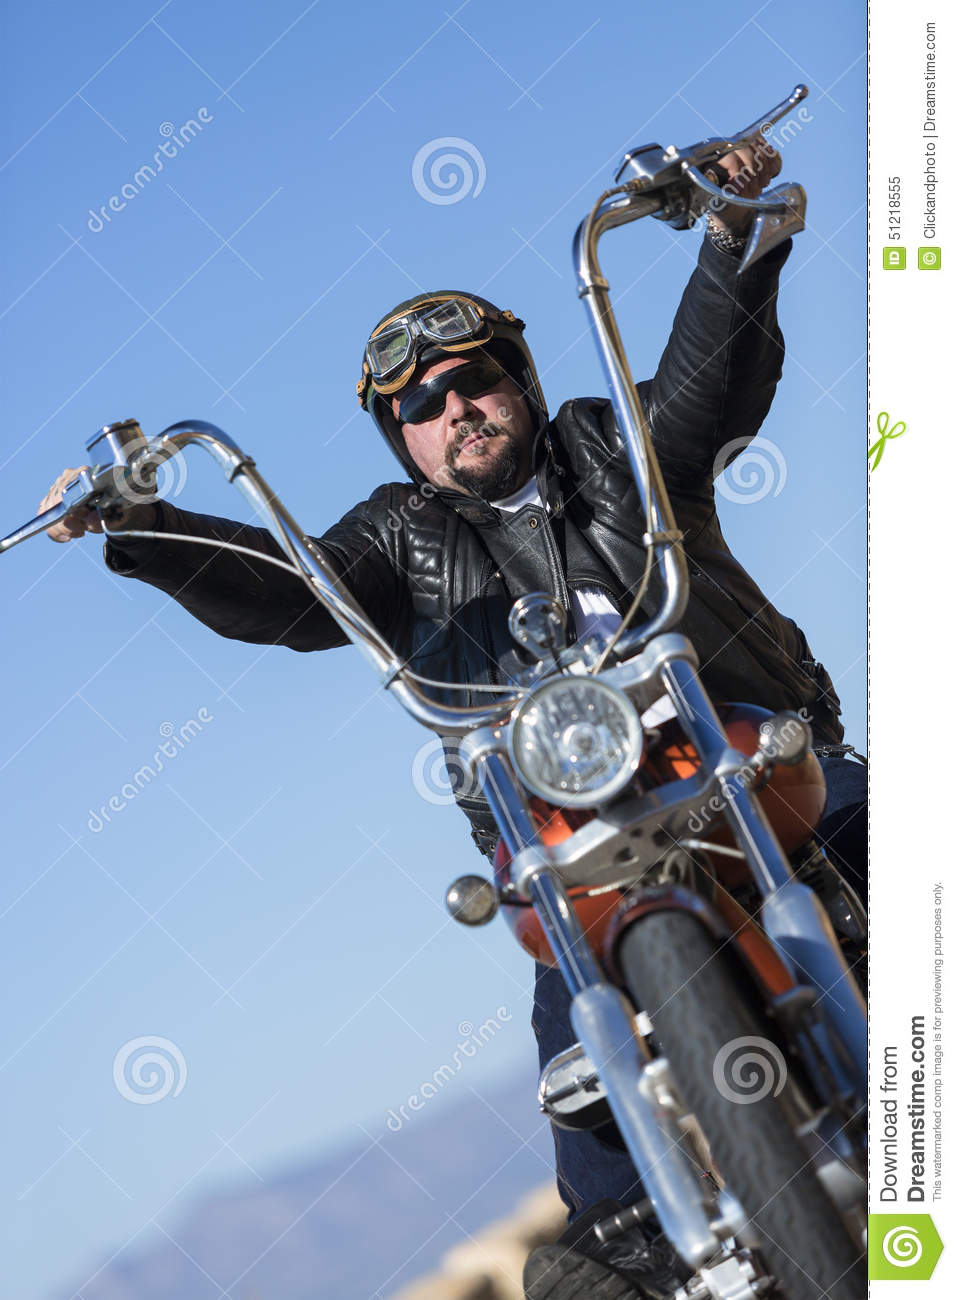helmet: (348, 281, 512, 395)
